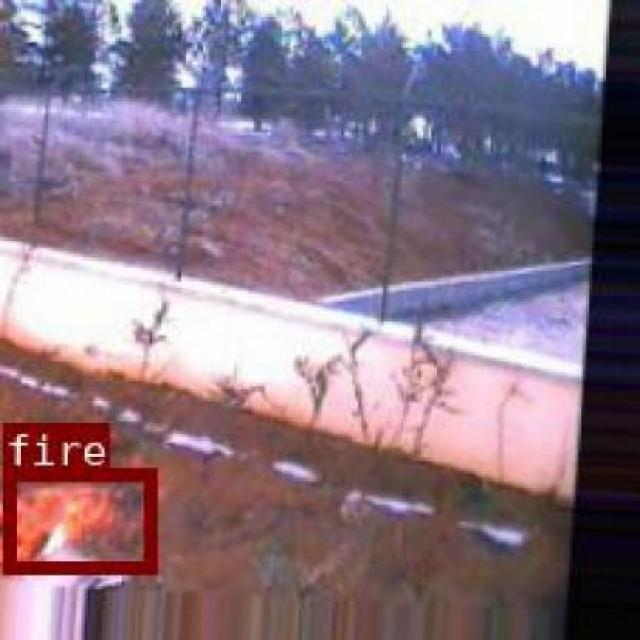Fire: (2, 466, 155, 572)
